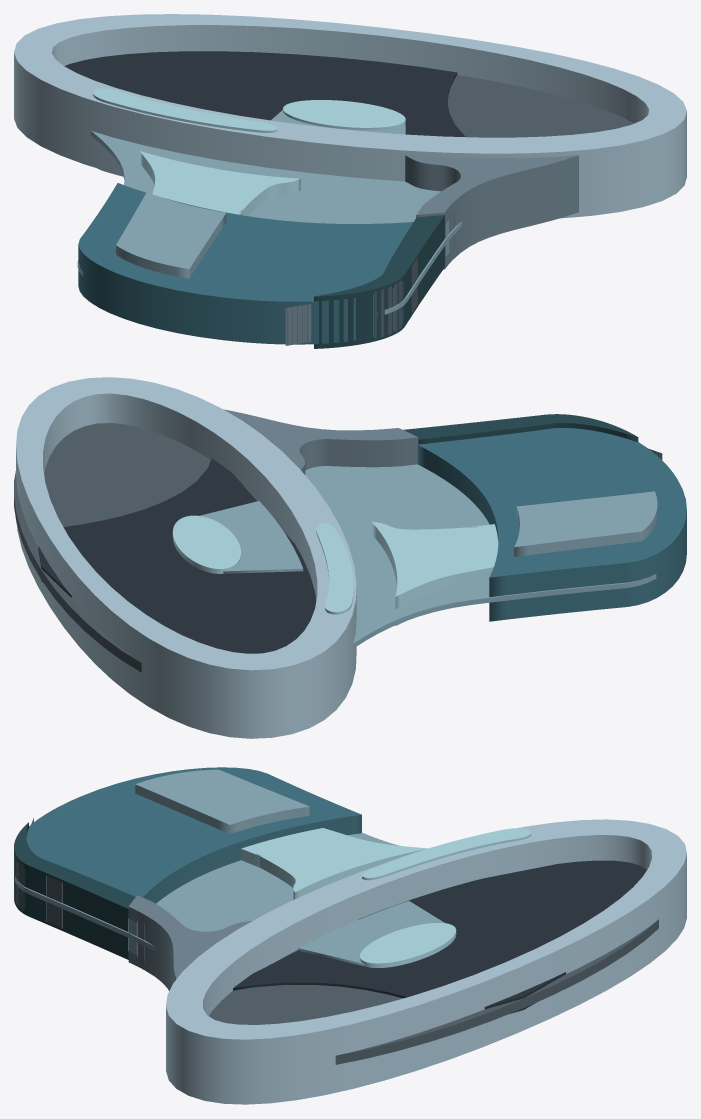
The model's file is emoji_u1f508.glb.
3 views of the same model, one above another, from view 1: azimuth 30°, elevation 25°; view 2: azimuth 150°, elevation 25°; view 3: azimuth 270°, elevation 25° (orthographic). The views are drawn at different scales.
Parts seen in each view (by area): view 1: emoji_u1f508; view 2: emoji_u1f508; view 3: emoji_u1f508.
Boxes of the visible parts, x1,y1,x2,y2 form: emoji_u1f508: [14, 14, 686, 348]; emoji_u1f508: [14, 377, 686, 738]; emoji_u1f508: [14, 767, 686, 1104].
Bounding box in the file's own units: 0.0263 × 0.003 × 0.0263.
